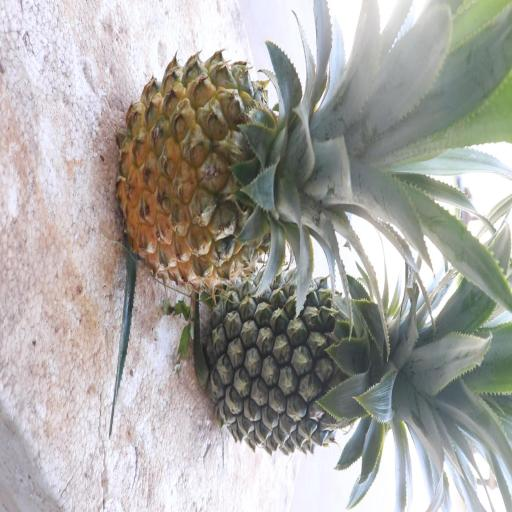Pineapple - v8 v1: (114, 46, 394, 291)
